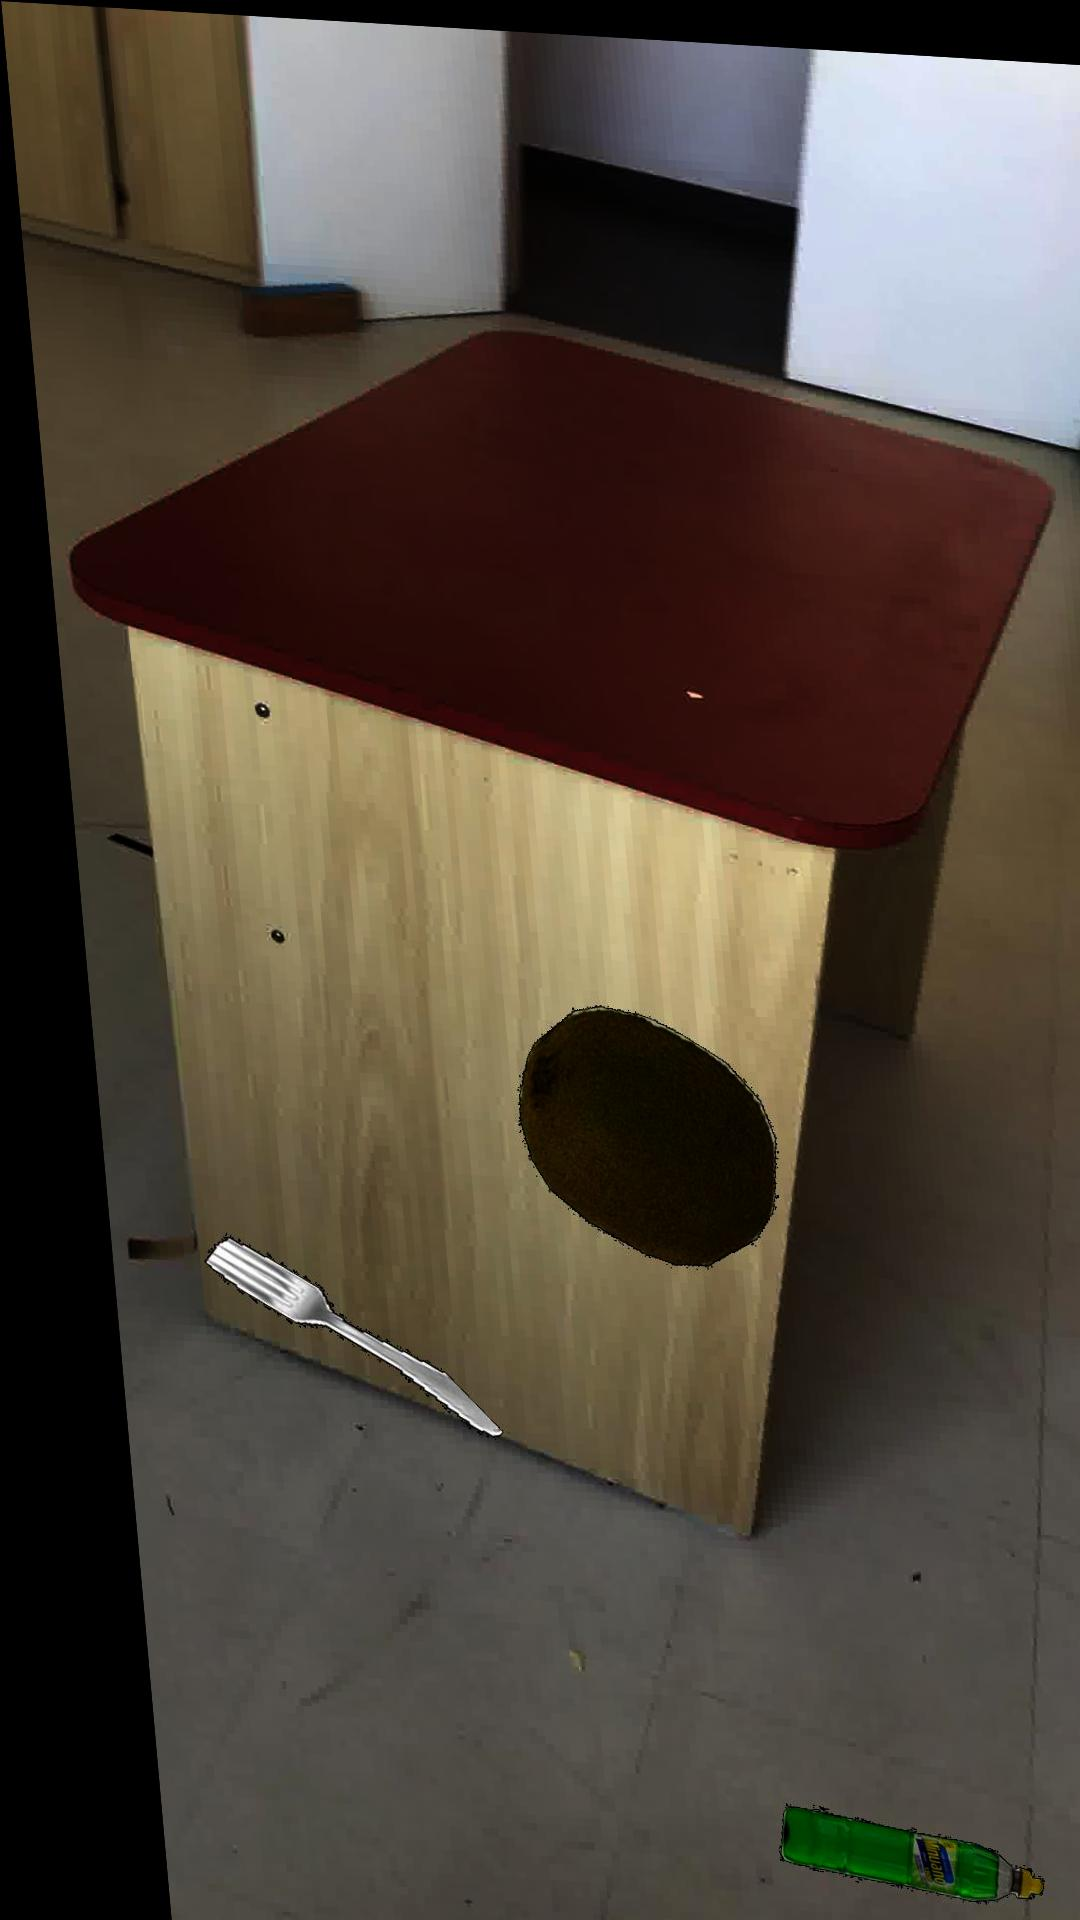cleaner: (746, 1795, 1010, 1892)
fork: (181, 1232, 477, 1431)
kiwi: (498, 996, 757, 1257)
